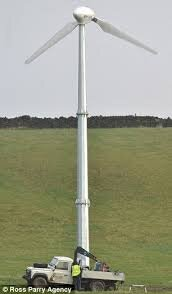faulty: (20, 4, 157, 71)
